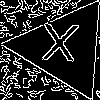X: (39, 23, 80, 72)
